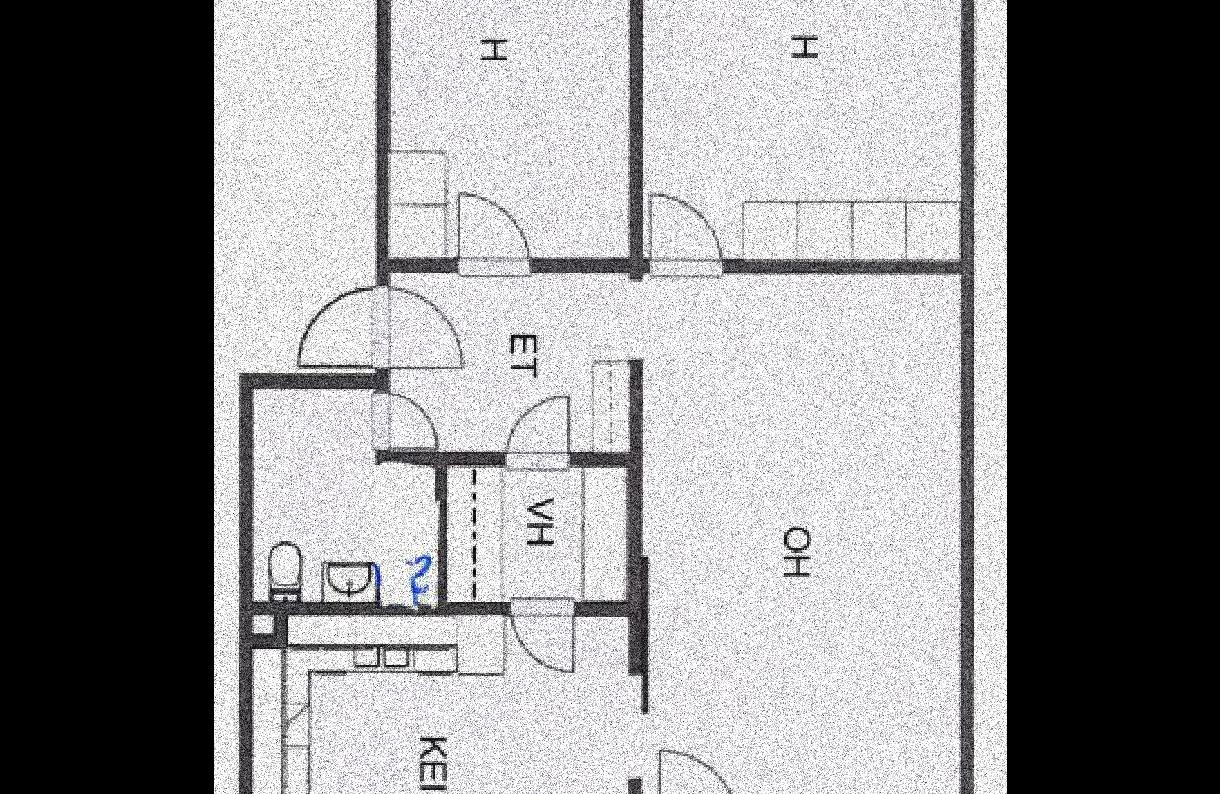door: (285, 283, 473, 377), (641, 175, 713, 278), (453, 184, 529, 275), (364, 382, 437, 459), (501, 392, 573, 470), (512, 593, 573, 678), (648, 743, 744, 794)
zone: (645, 271, 959, 794), (644, 0, 961, 254), (255, 617, 628, 794), (393, 0, 631, 253), (387, 270, 630, 451), (261, 397, 448, 604), (447, 467, 627, 601)
